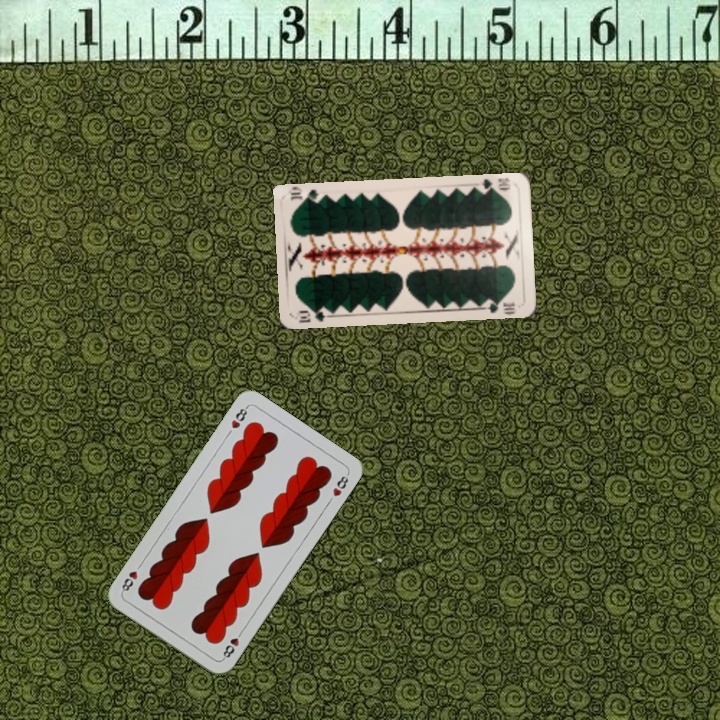G10: (295, 305, 333, 325), (477, 174, 513, 195)
H8: (218, 626, 246, 662), (227, 402, 251, 431)
